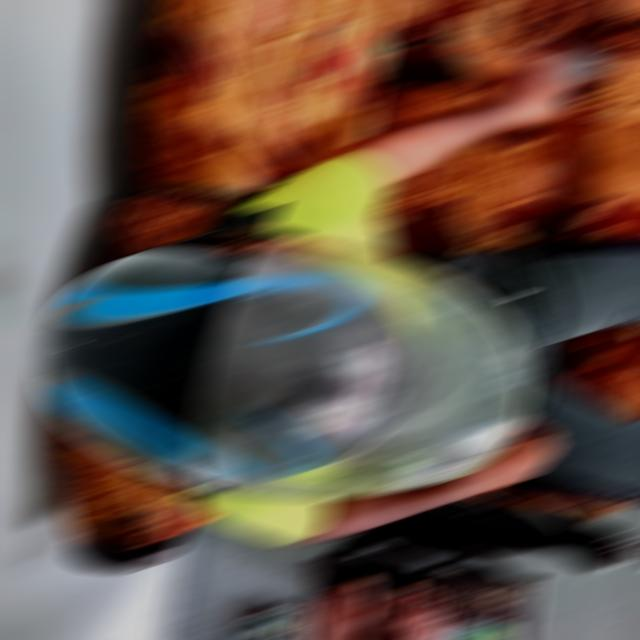With Helmet: (33, 227, 534, 499)
